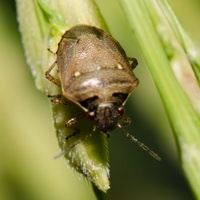insect: (45, 25, 138, 132)
